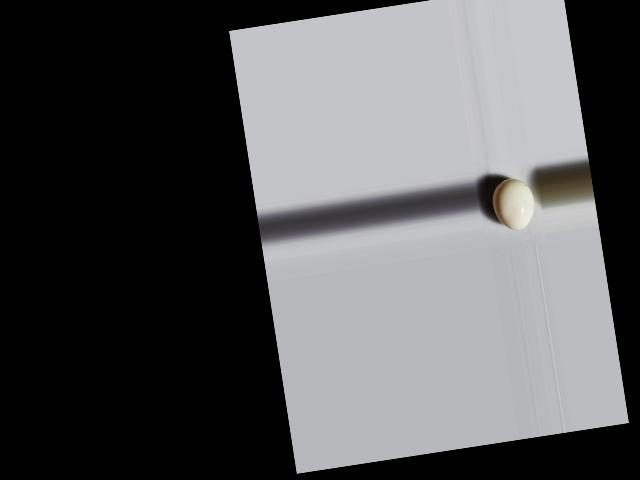egg: (489, 175, 537, 232)
